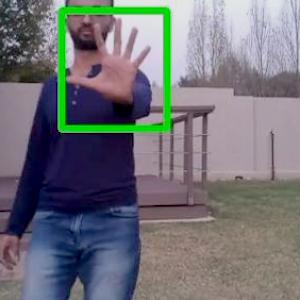follow_hand: (63, 10, 155, 106)
